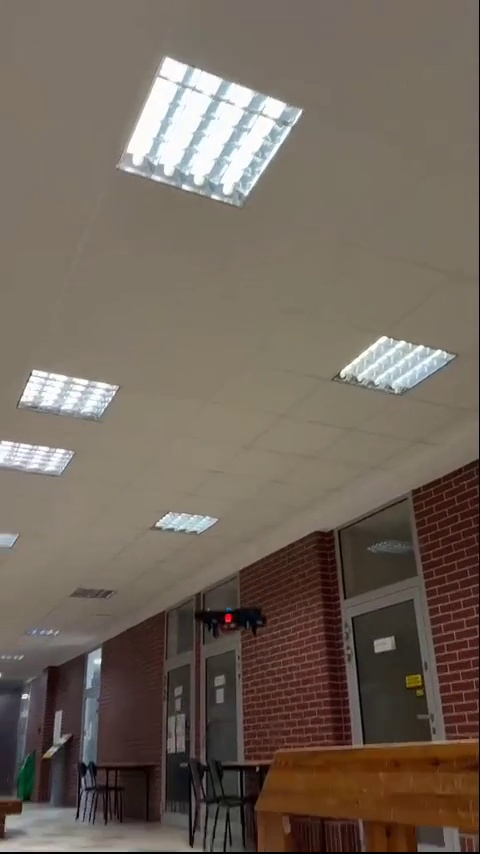drone: (186, 602, 268, 640)
